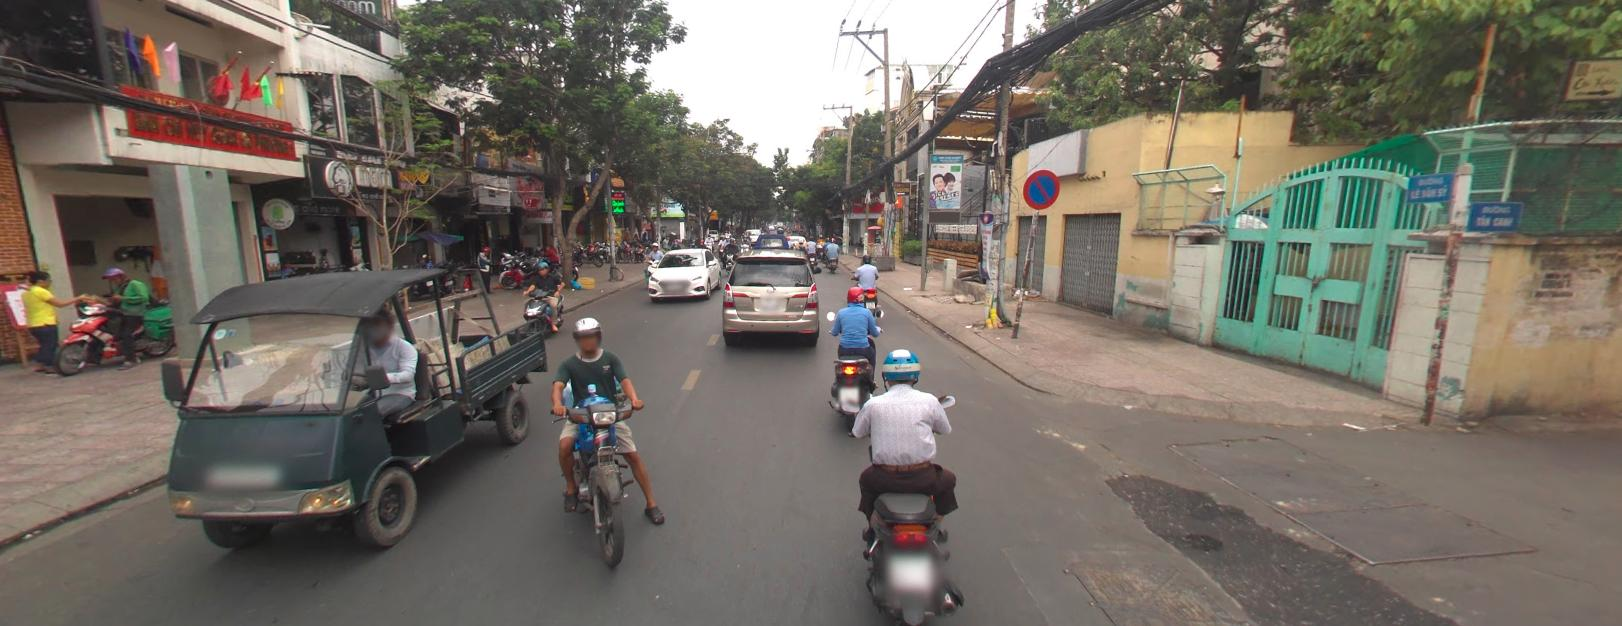Cam dung va do: (1019, 166, 1064, 211)
